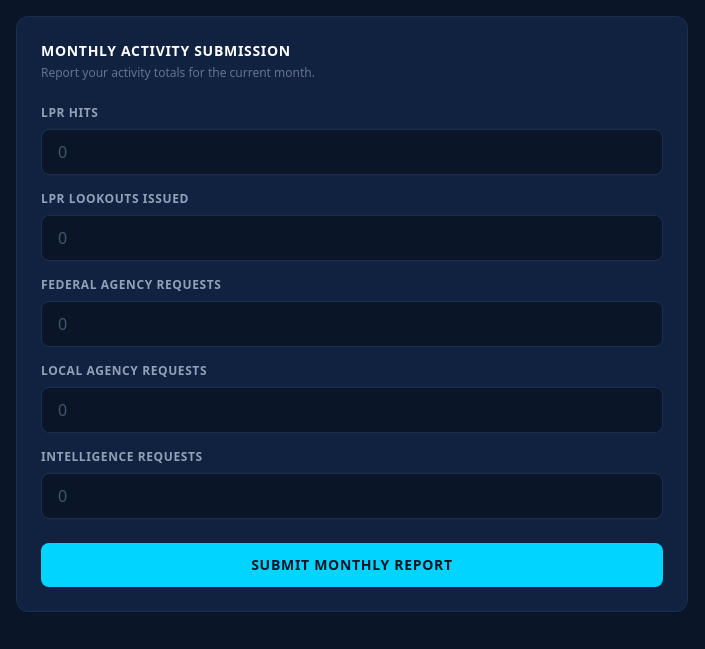
Test: AnalystDashboard monthly submission › shows a max-exceeded error when a value is too large
Type "99999" into the number field labelled "LPR Hits". click: (352, 152)
box: 41,129 -> 663,175
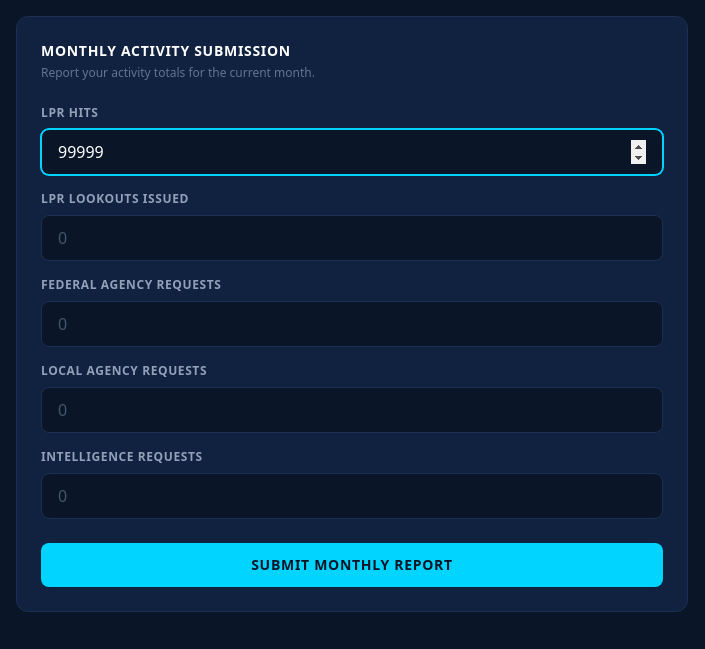
Type "1" into the number field labelled "LPR Lookouts Issued". click: (352, 238)
box: 41,215 -> 663,261
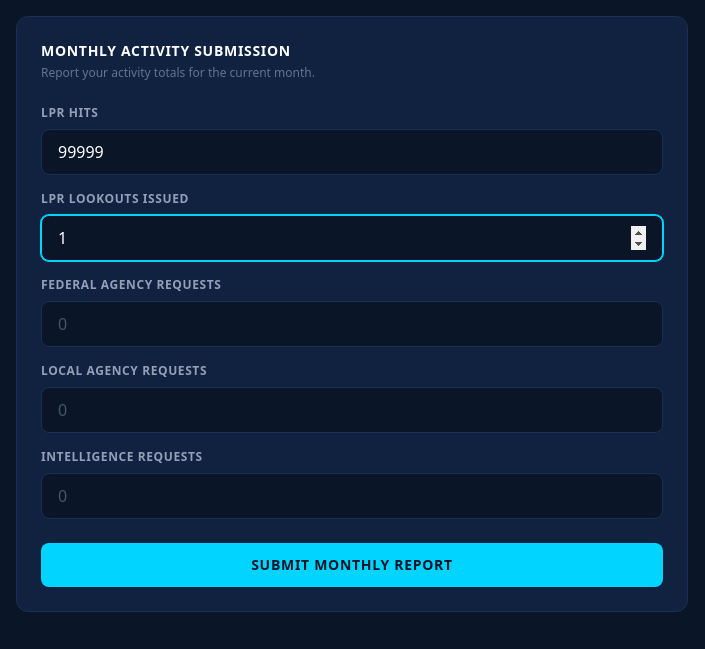
Type "1" into the number field labelled "Federal Agency Requests". click: (352, 324)
box: 41,301 -> 663,347
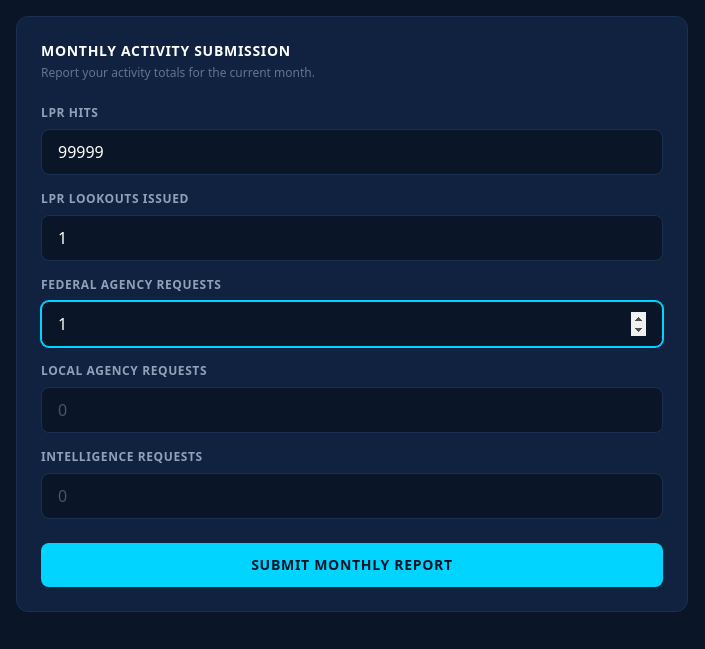
Type "1" into the number field labelled "Local Agency Requests". click: (352, 410)
box: 41,387 -> 663,433
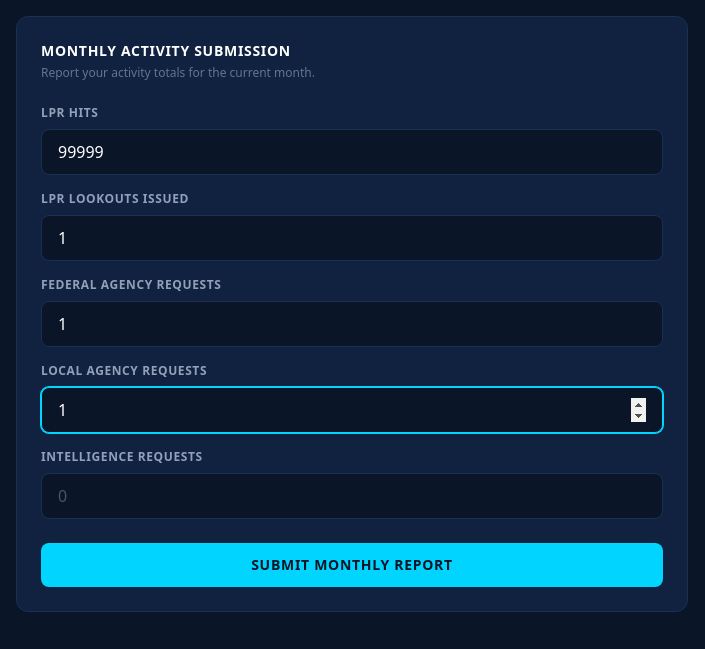
Type "1" into the number field labelled "Intelligence Requests". click: (352, 496)
box: 41,473 -> 663,519
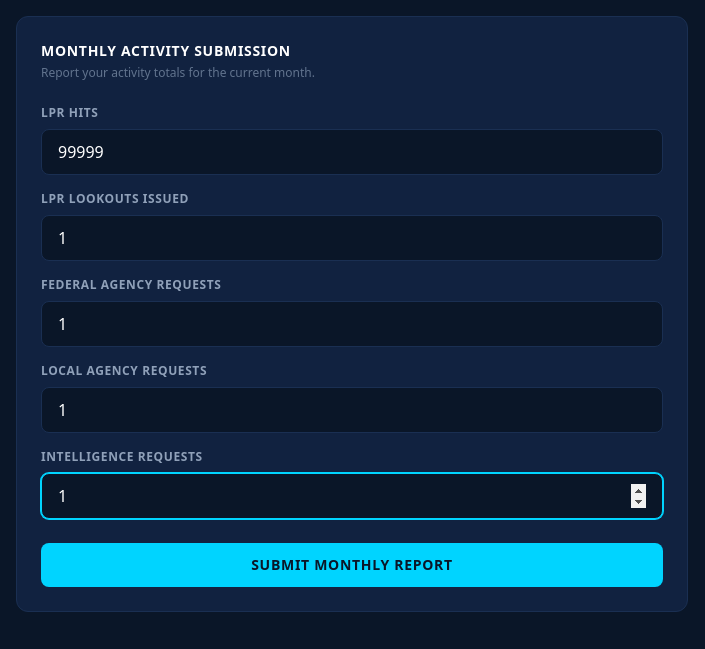
Click the button "Submit Monthly Report". click: (352, 565)
box: 41,543 -> 663,587
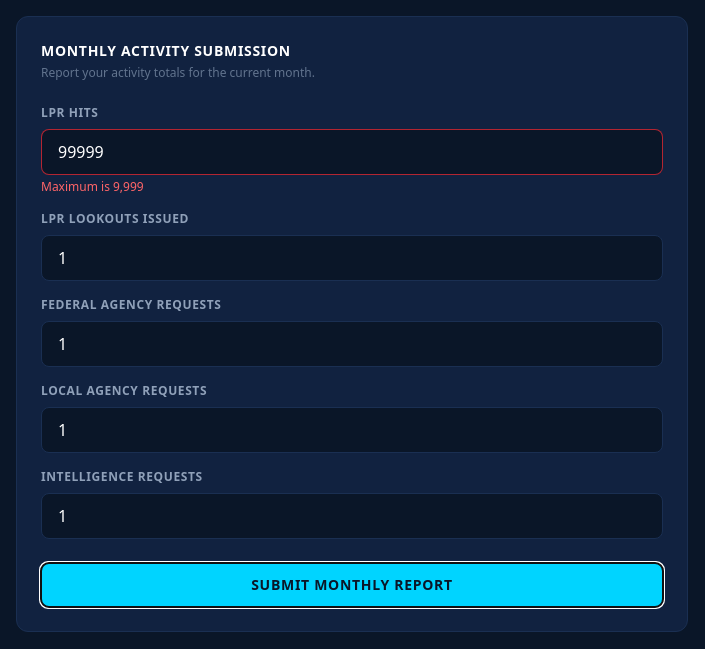
Result: the text "Maximum is 9,999" is shown at 41,178 -> 144,195
